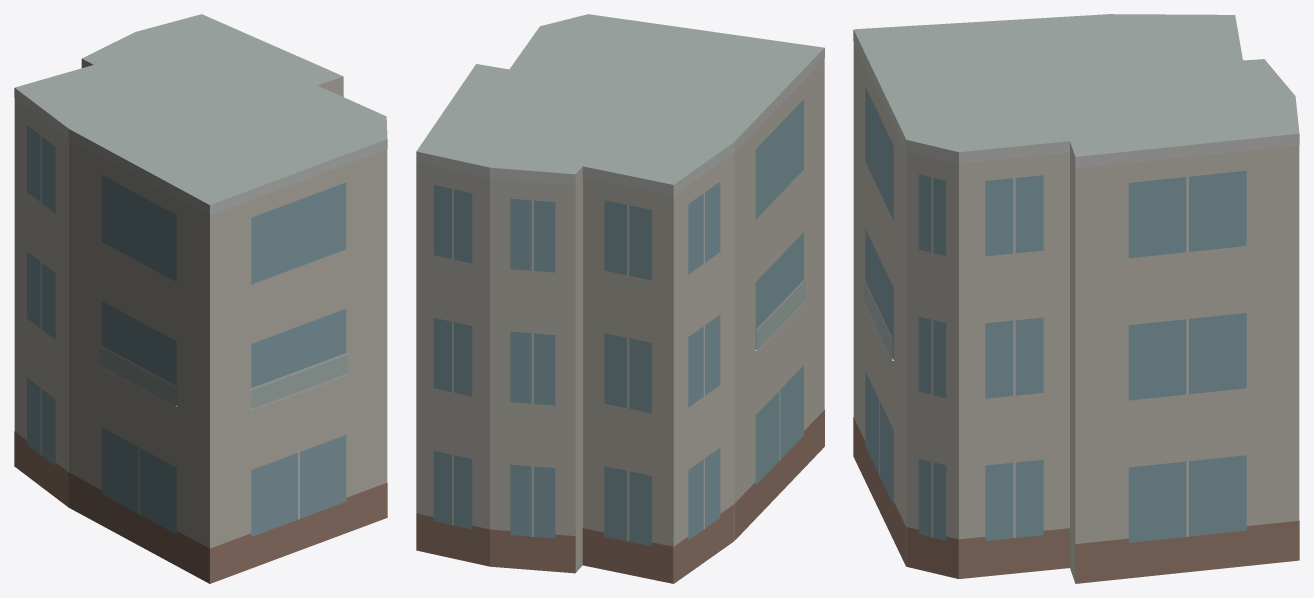
The model's file is survey-upis-32469918.glb.
3 renders of one model, left to right at view 1: azimuth 30°, elevation 25°; view 2: azimuth 150°, elevation 25°; view 3: azimuth 270°, elevation 25°, orthographic. The views are drawn at different scales.
Parts seen in each view (by area): view 1: survey-upis-32469918.tmp; view 2: survey-upis-32469918.tmp; view 3: survey-upis-32469918.tmp.
Part boxes in pixels (x1,y1,x2,y2): survey-upis-32469918.tmp: (14, 14, 387, 583); survey-upis-32469918.tmp: (416, 14, 824, 583); survey-upis-32469918.tmp: (853, 14, 1299, 583).
Bounding box in the file's own units: 6.48 × 9 × 8.54.
